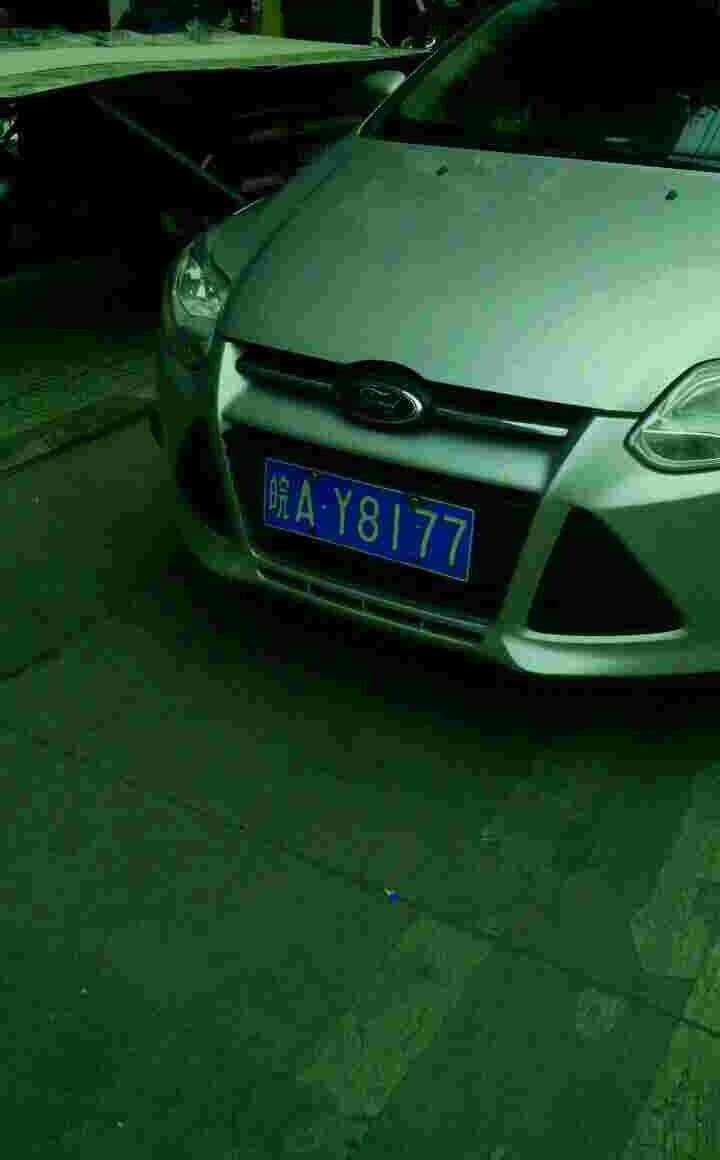license_plate: (253, 465, 485, 567)
